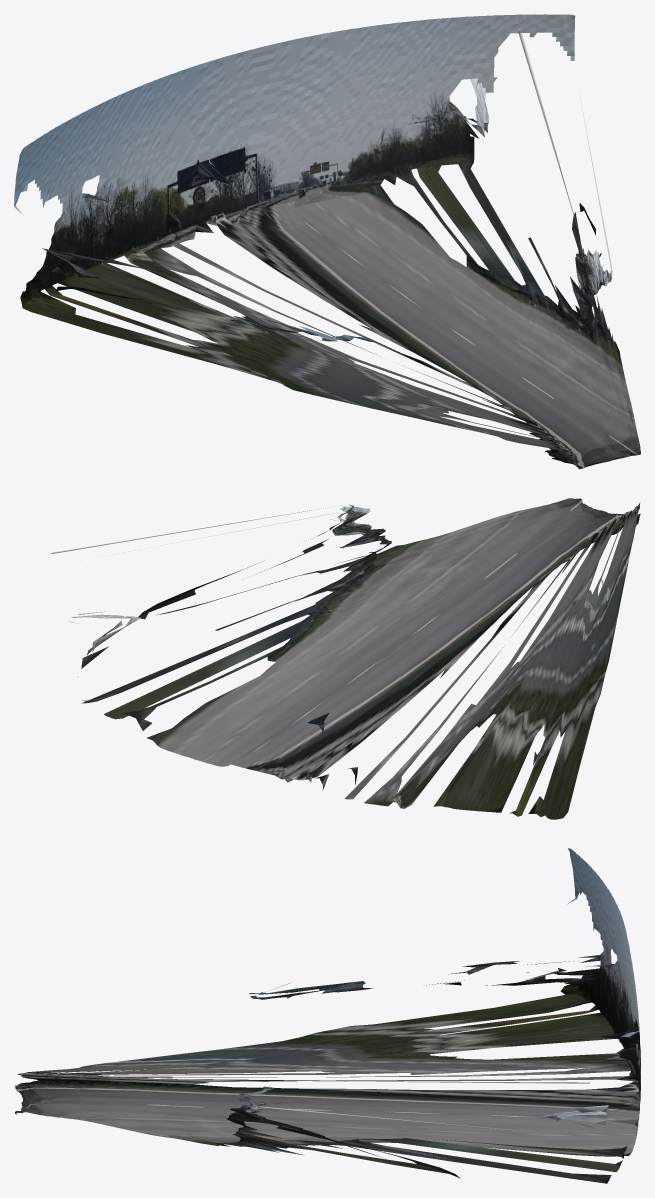
3 views of the same model, one above another, from view 1: azimuth 30°, elevation 25°; view 2: azimuth 150°, elevation 25°; view 3: azimuth 270°, elevation 25° (orthographic). The views are drawn at different scales.
Visible parts, largest first — view 1: defaultobject; view 2: defaultobject; view 3: defaultobject.
Part boxes in pixels (x1,y1,x2,y2): defaultobject: [14, 14, 640, 469]; defaultobject: [49, 498, 640, 819]; defaultobject: [14, 848, 640, 1183].
Size of the model in its own units: 40.92 by 12.63 by 44.78.
1 material, 1 textured.
